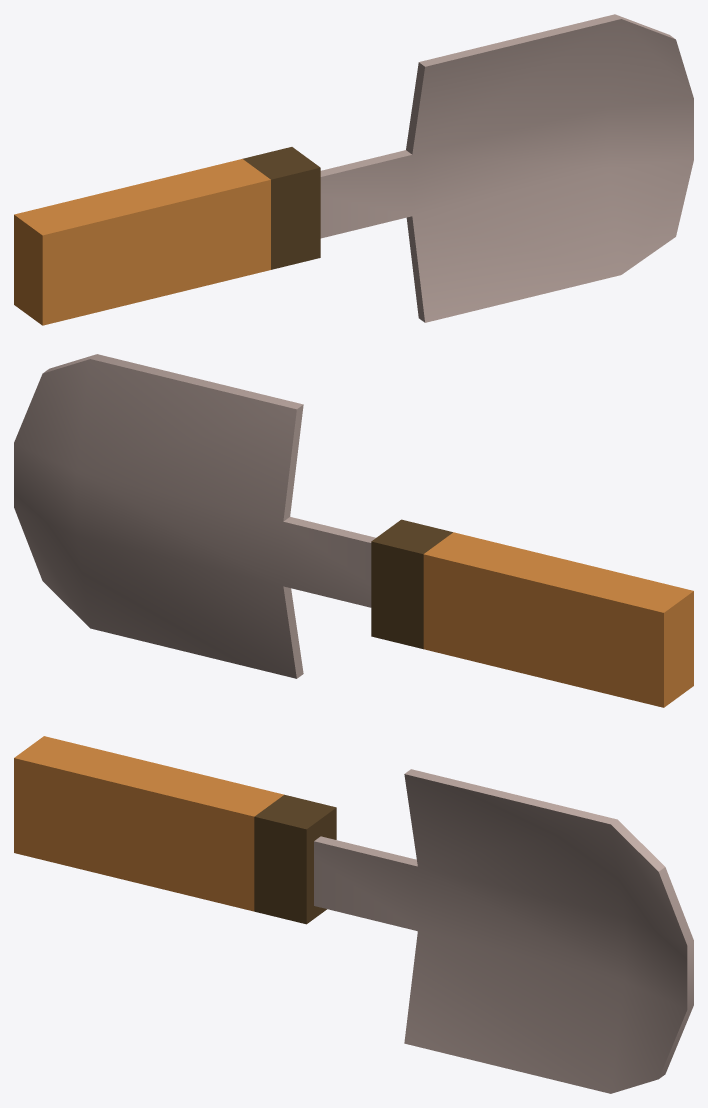
File: Shovel.fbx
3 views of the same model, one above another, from view 1: azimuth 30°, elevation 25°; view 2: azimuth 150°, elevation 25°; view 3: azimuth 330°, elevation 25° (orthographic). The views are drawn at different scales.
Visible parts, largest first — view 1: Shovel; view 2: Shovel; view 3: Shovel.
Boxes of the visible parts, bbox=[...] form: Shovel: bbox=[14, 14, 693, 325]; Shovel: bbox=[14, 354, 693, 707]; Shovel: bbox=[14, 736, 693, 1093].
Size of the model in its own units: 122 by 46.09 by 12.72.
